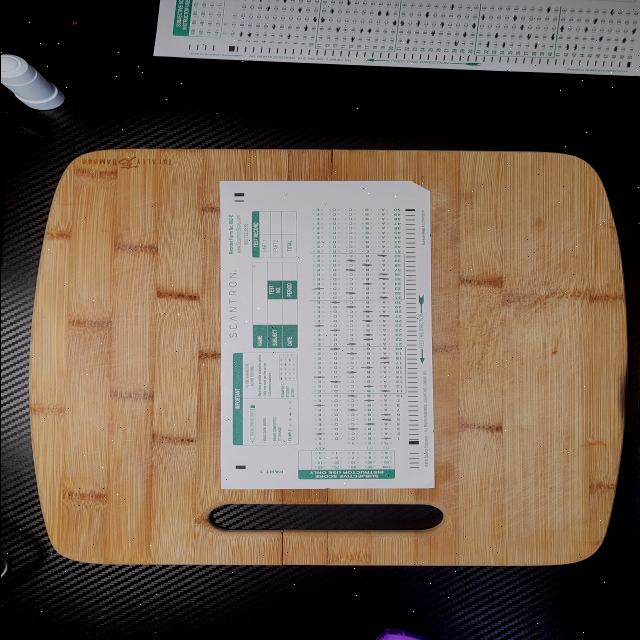scantron: (217, 181, 434, 490)
